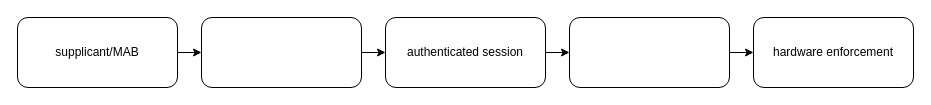
The diagram is 931 pixels wide and 105 high, and some of its shapes have lost their labels. Each missing label, with the box of its shape:
DACL programming: (568, 16, 730, 88)
RADIUS Access-Accept: (200, 16, 362, 88)
